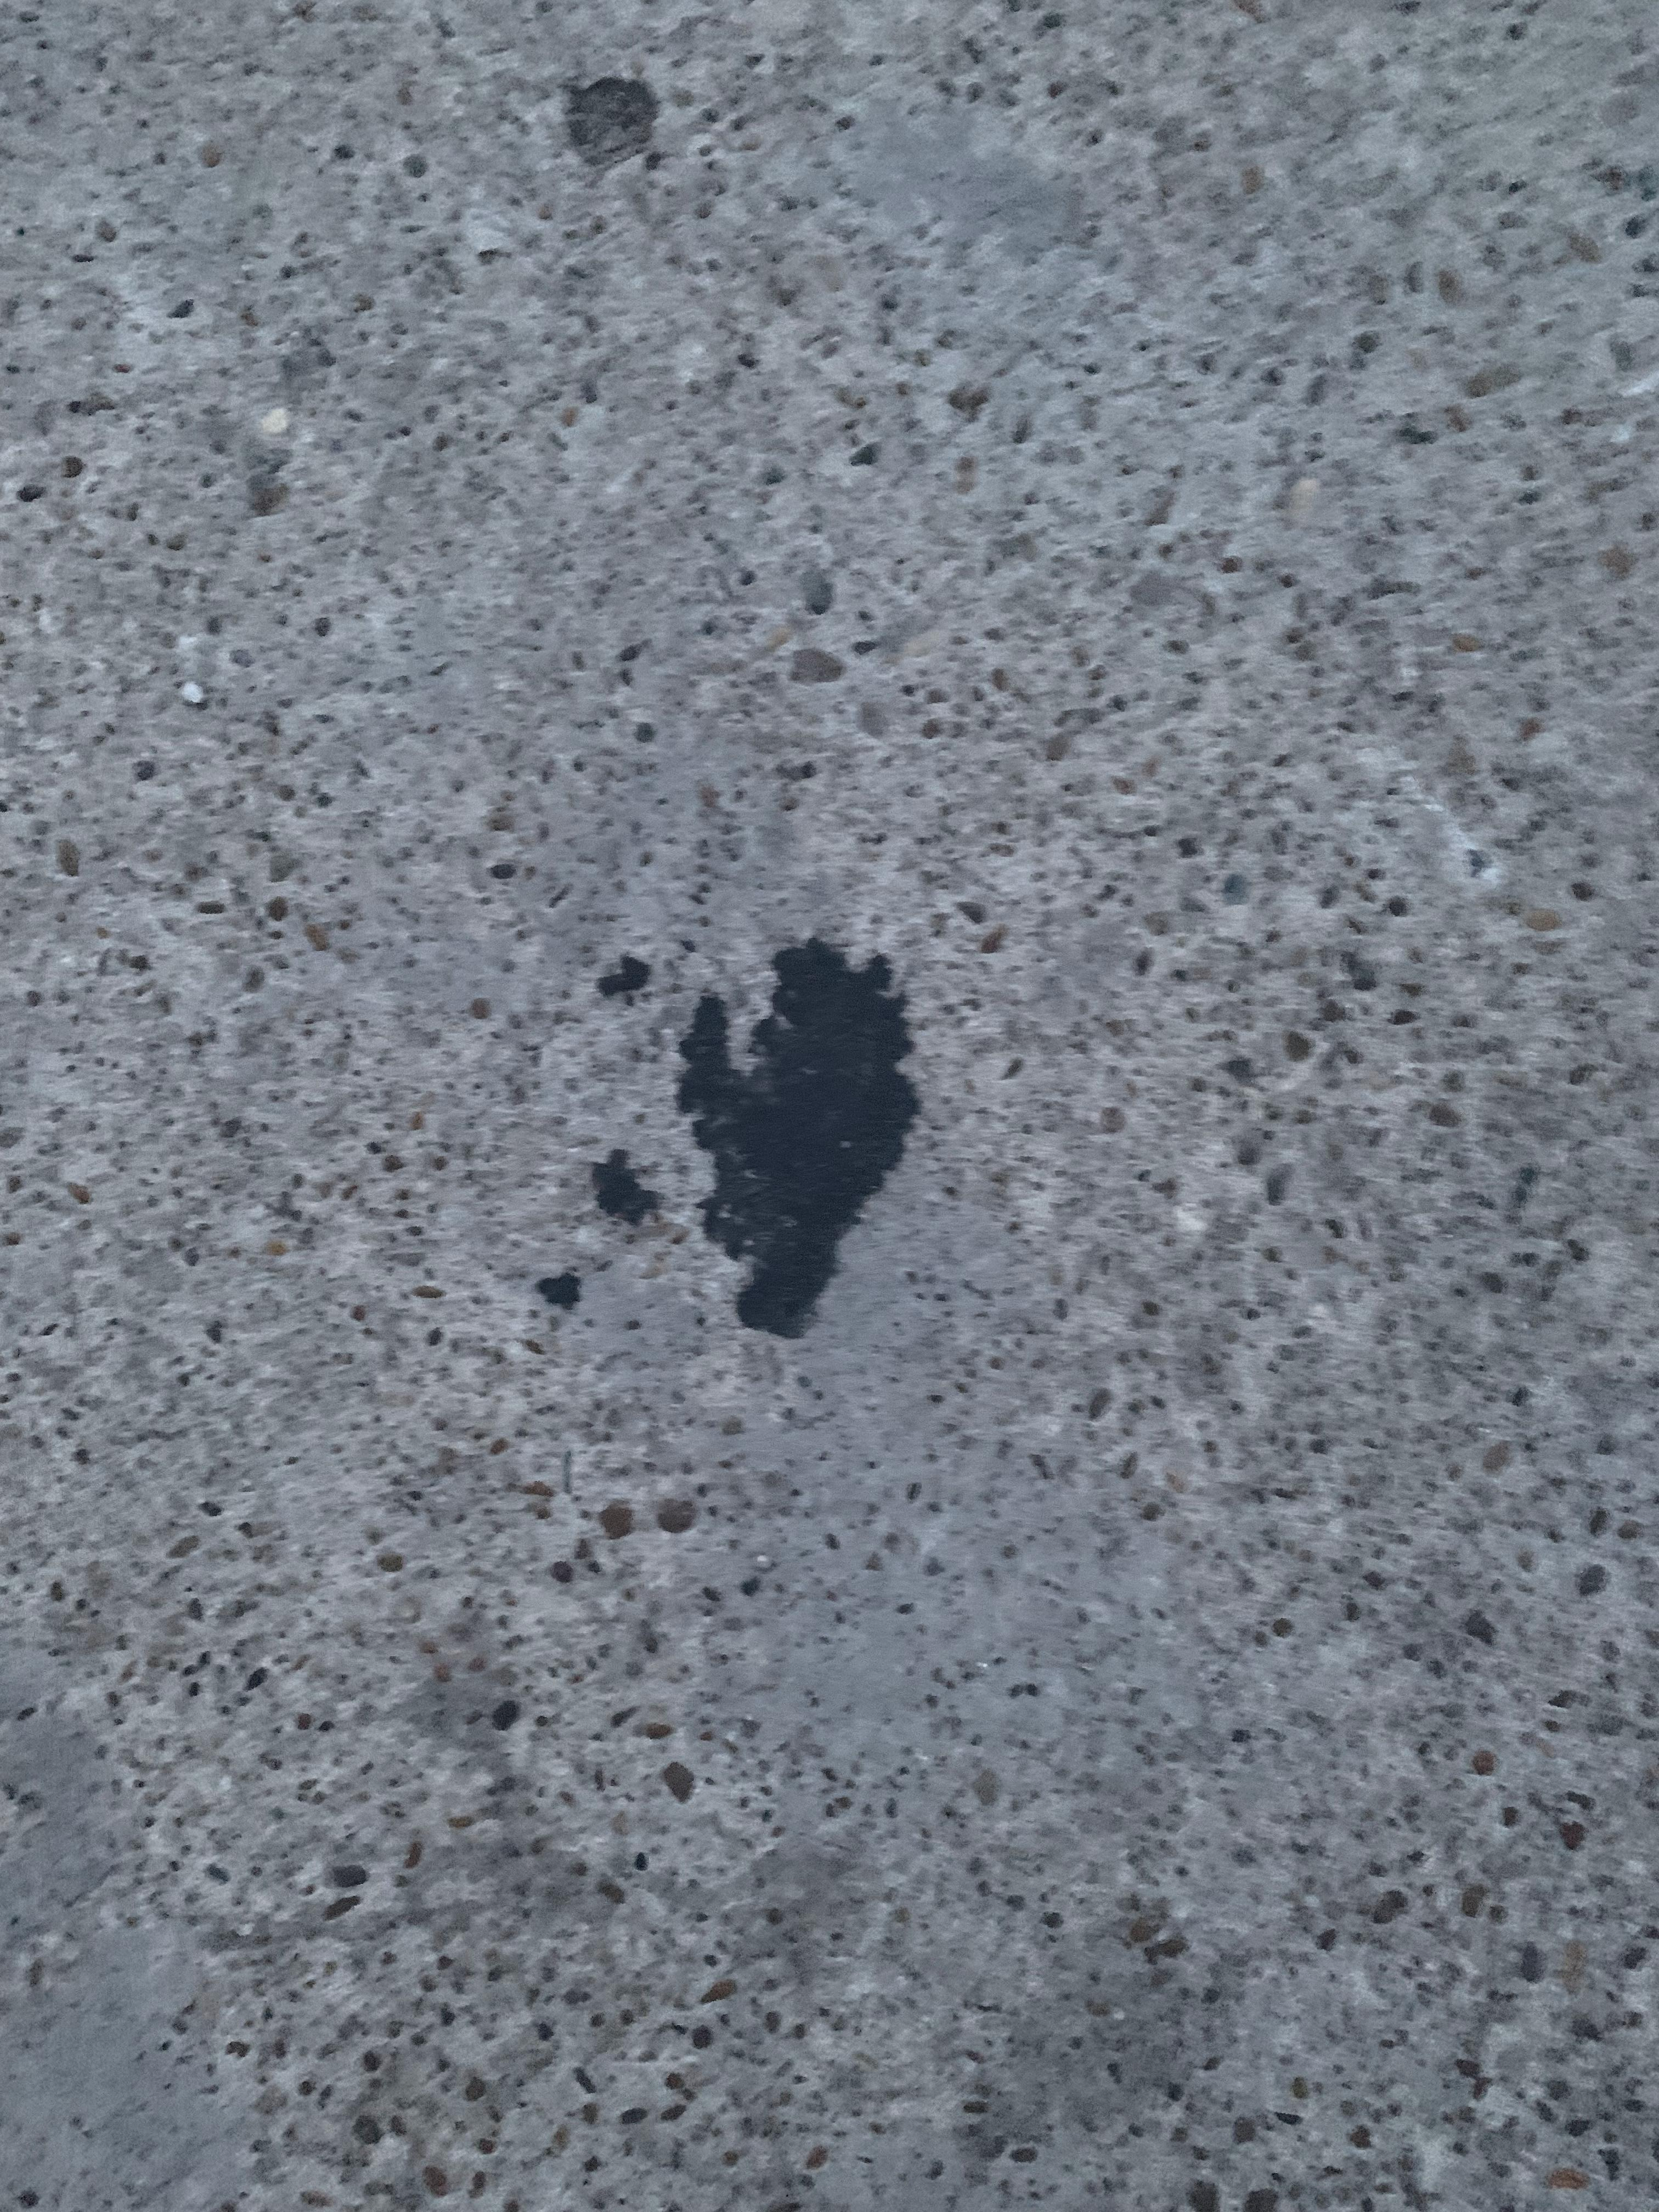grey spot: (538, 937, 931, 1338), (559, 73, 662, 176)
